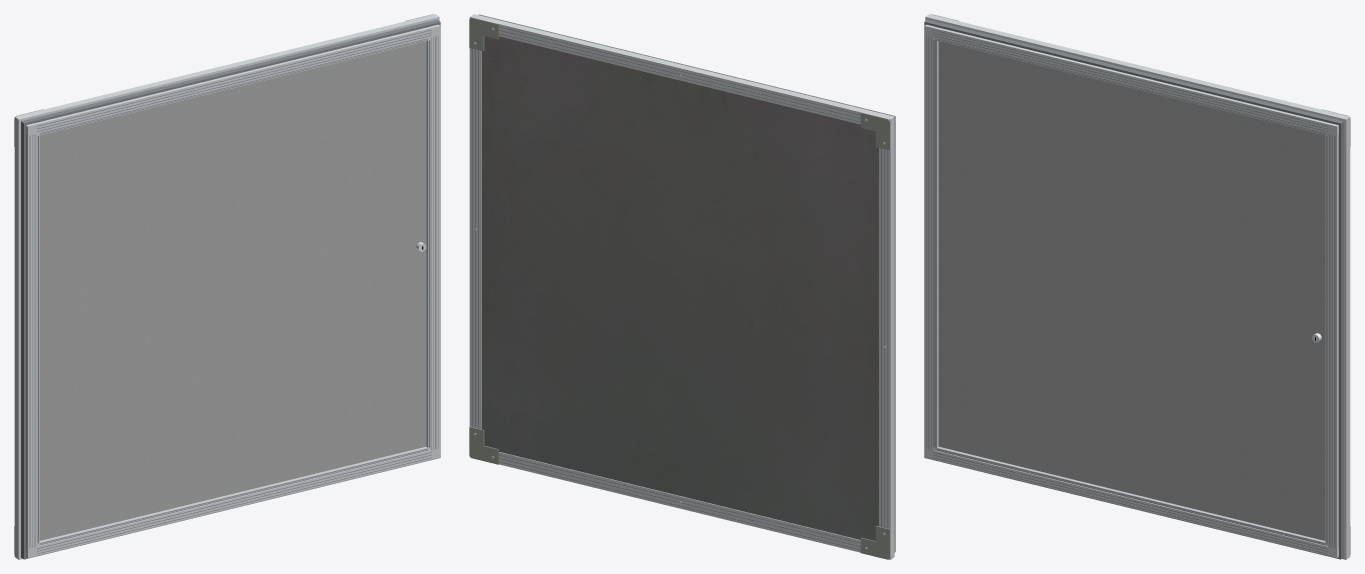
File: deluxe-45mm-adc-notice-board-single-door.glb
The picture shows the model from 3 angles, left to right: view 1: azimuth 30°, elevation 25°; view 2: azimuth 150°, elevation 25°; view 3: azimuth 330°, elevation 25°; orthographic projection.
Parts seen in each view (by area): view 1: fabric-navy, acrylic, aluminium, aluminium-dark; view 2: board-back, aluminium, aluminium-dark, back-plate; view 3: fabric-navy, acrylic, aluminium, aluminium-dark.
Part boxes in pixels (x1,y1,x2,y2): fabric-navy: (39, 41, 426, 540); acrylic: (40, 42, 425, 540); aluminium: (14, 14, 440, 559); aluminium-dark: (21, 19, 440, 559); board-back: (482, 36, 878, 540); aluminium: (469, 14, 894, 559); aluminium-dark: (472, 14, 895, 552); back-plate: (469, 17, 890, 559); fabric-navy: (938, 41, 1325, 540); acrylic: (939, 42, 1324, 540); aluminium: (924, 14, 1350, 559); aluminium-dark: (924, 19, 1343, 559).
Bounding box in the file's own units: 1.22 × 1.22 × 0.0595.
9 materials, 2 textured.
